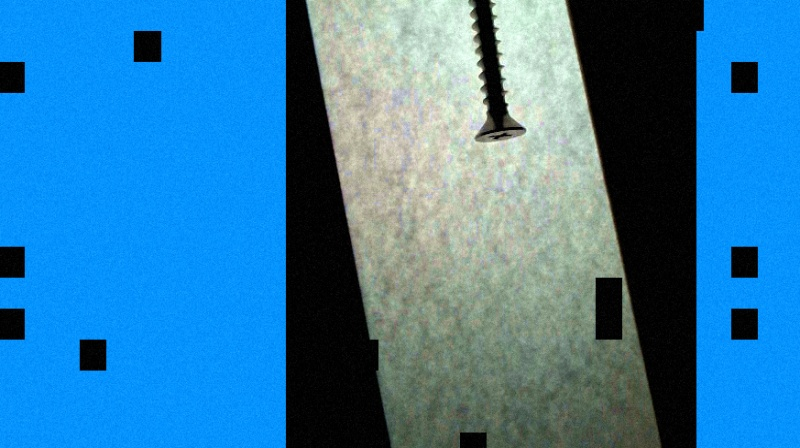S001: (464, 0, 528, 147)
